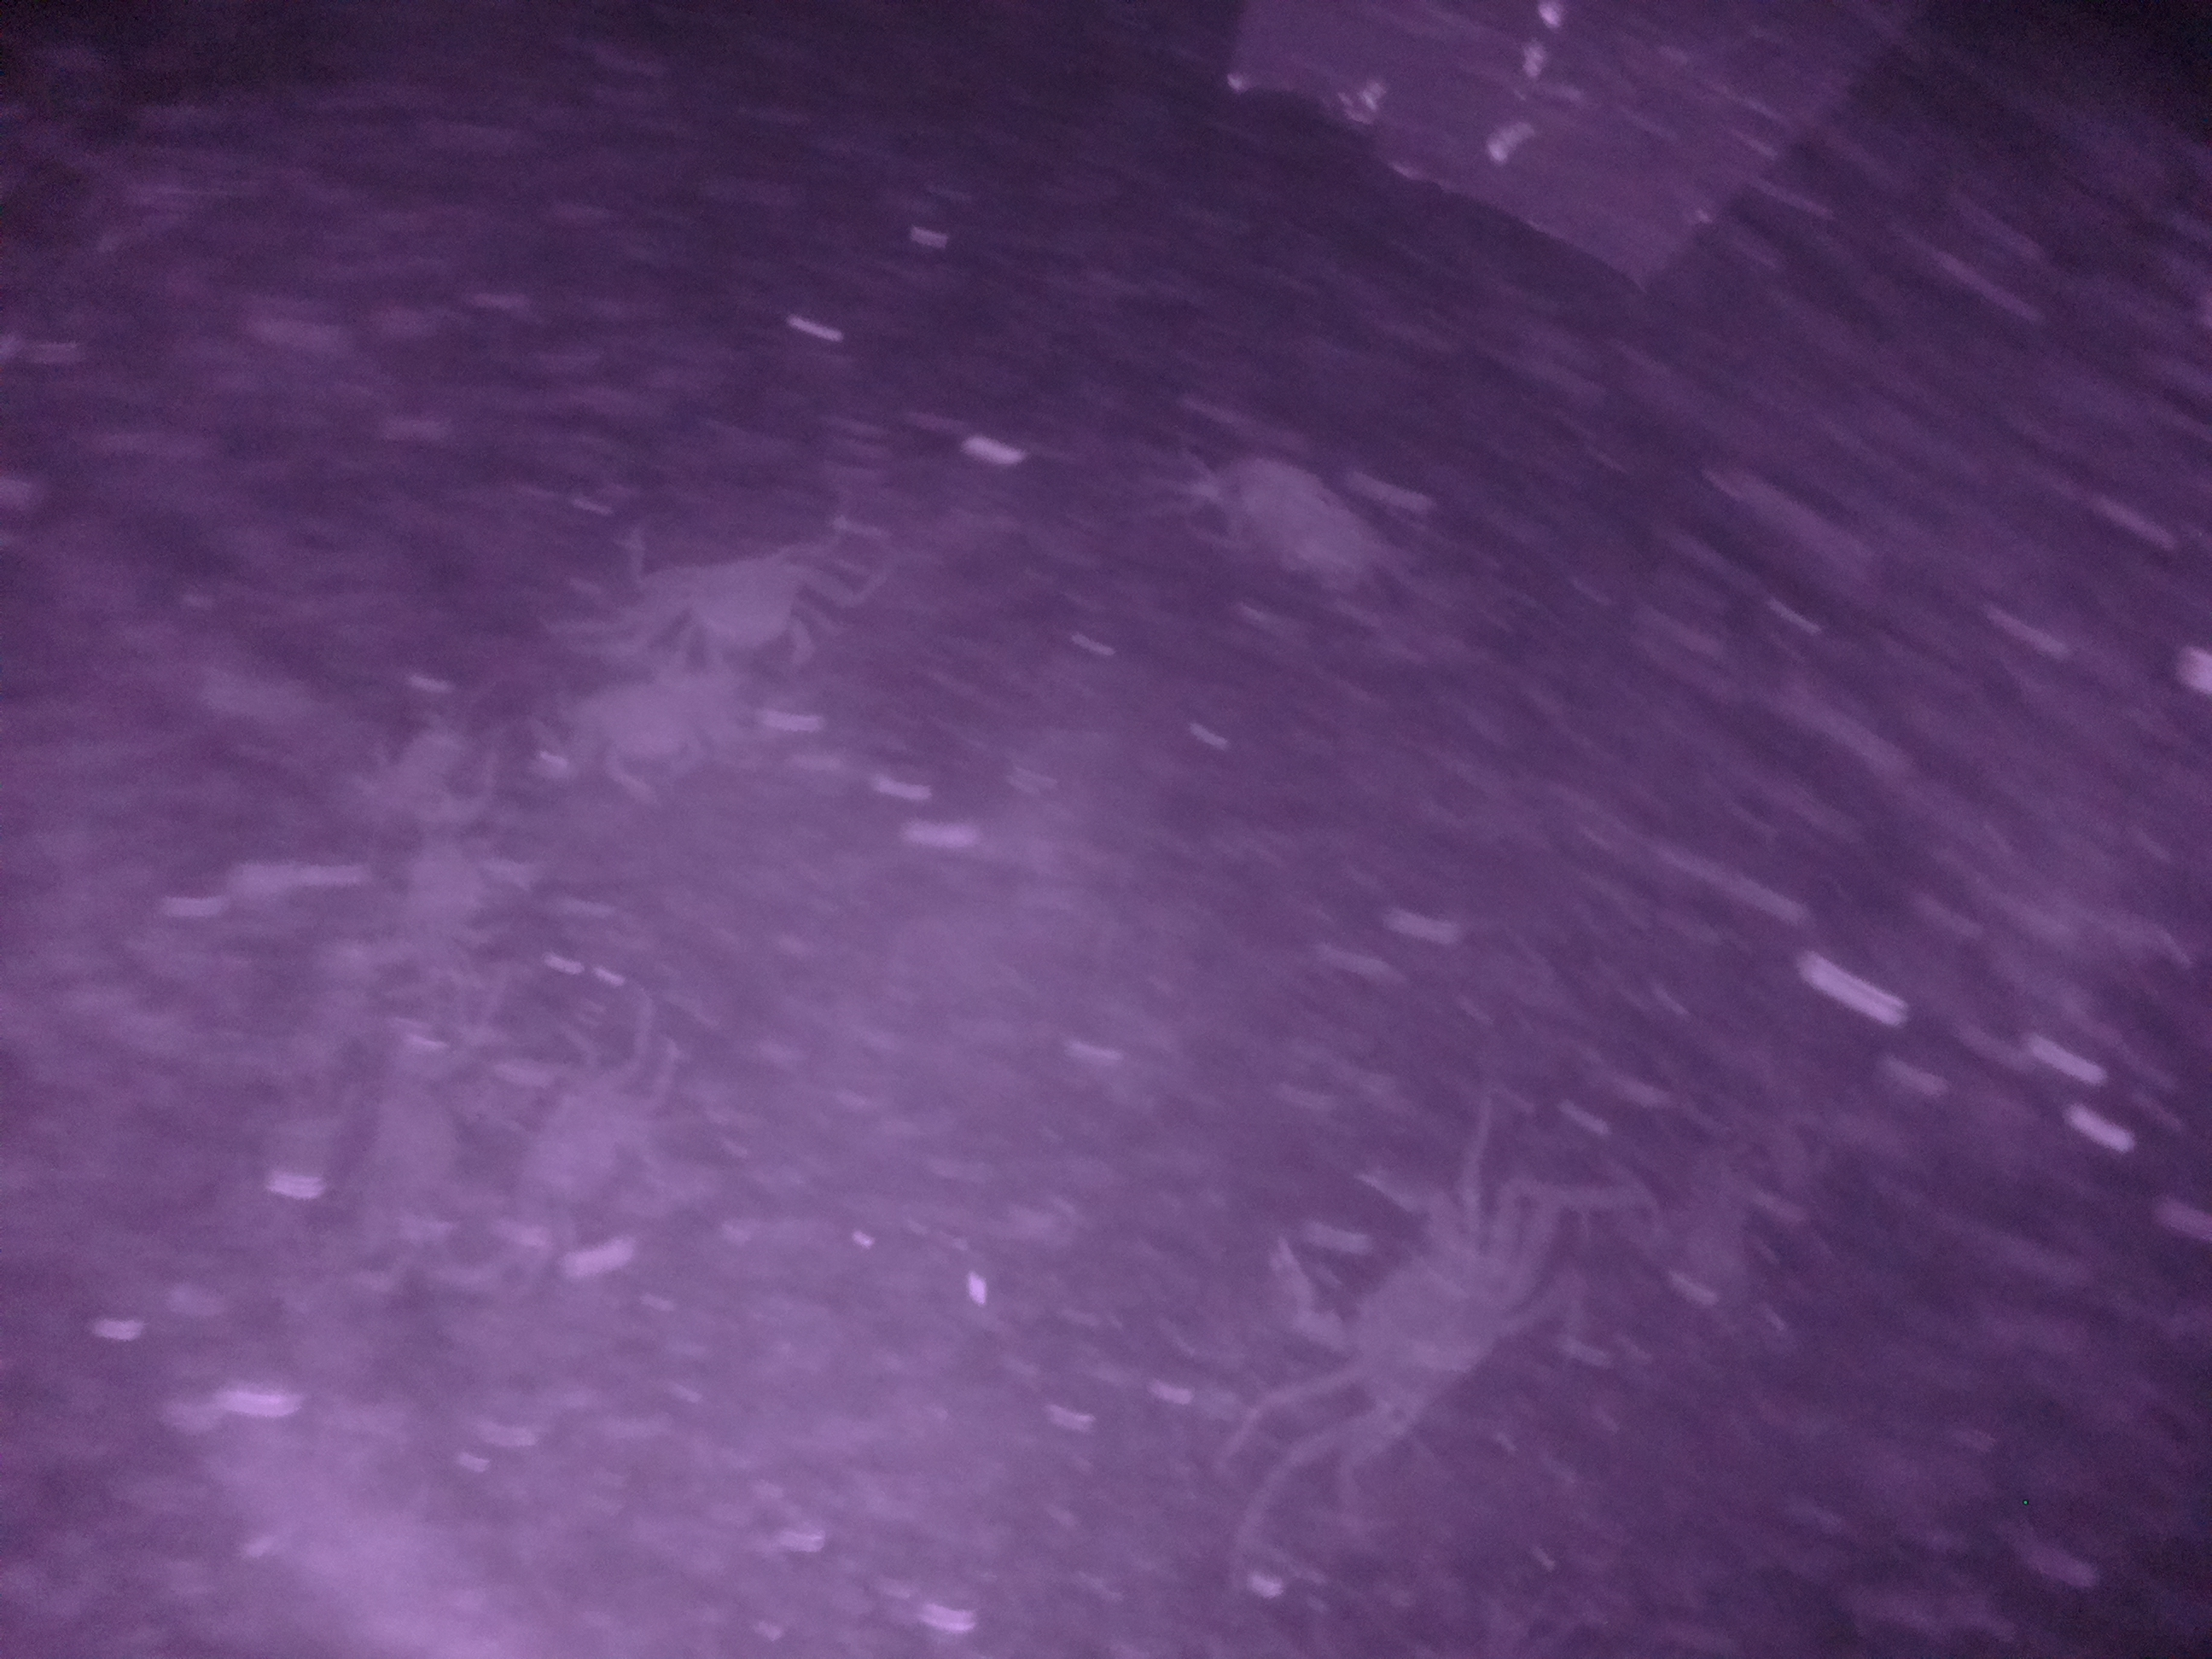Crab: (1228, 1134, 1557, 1455), (644, 523, 843, 692)
